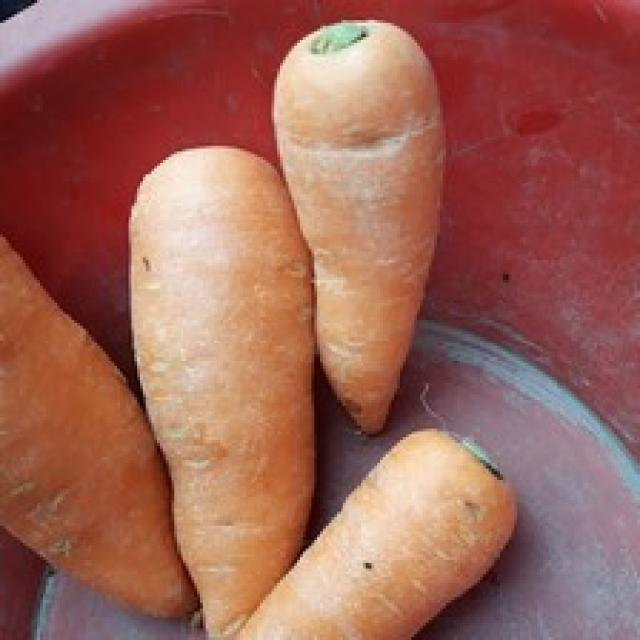Fresh_Carrot: (168, 96, 325, 604)
